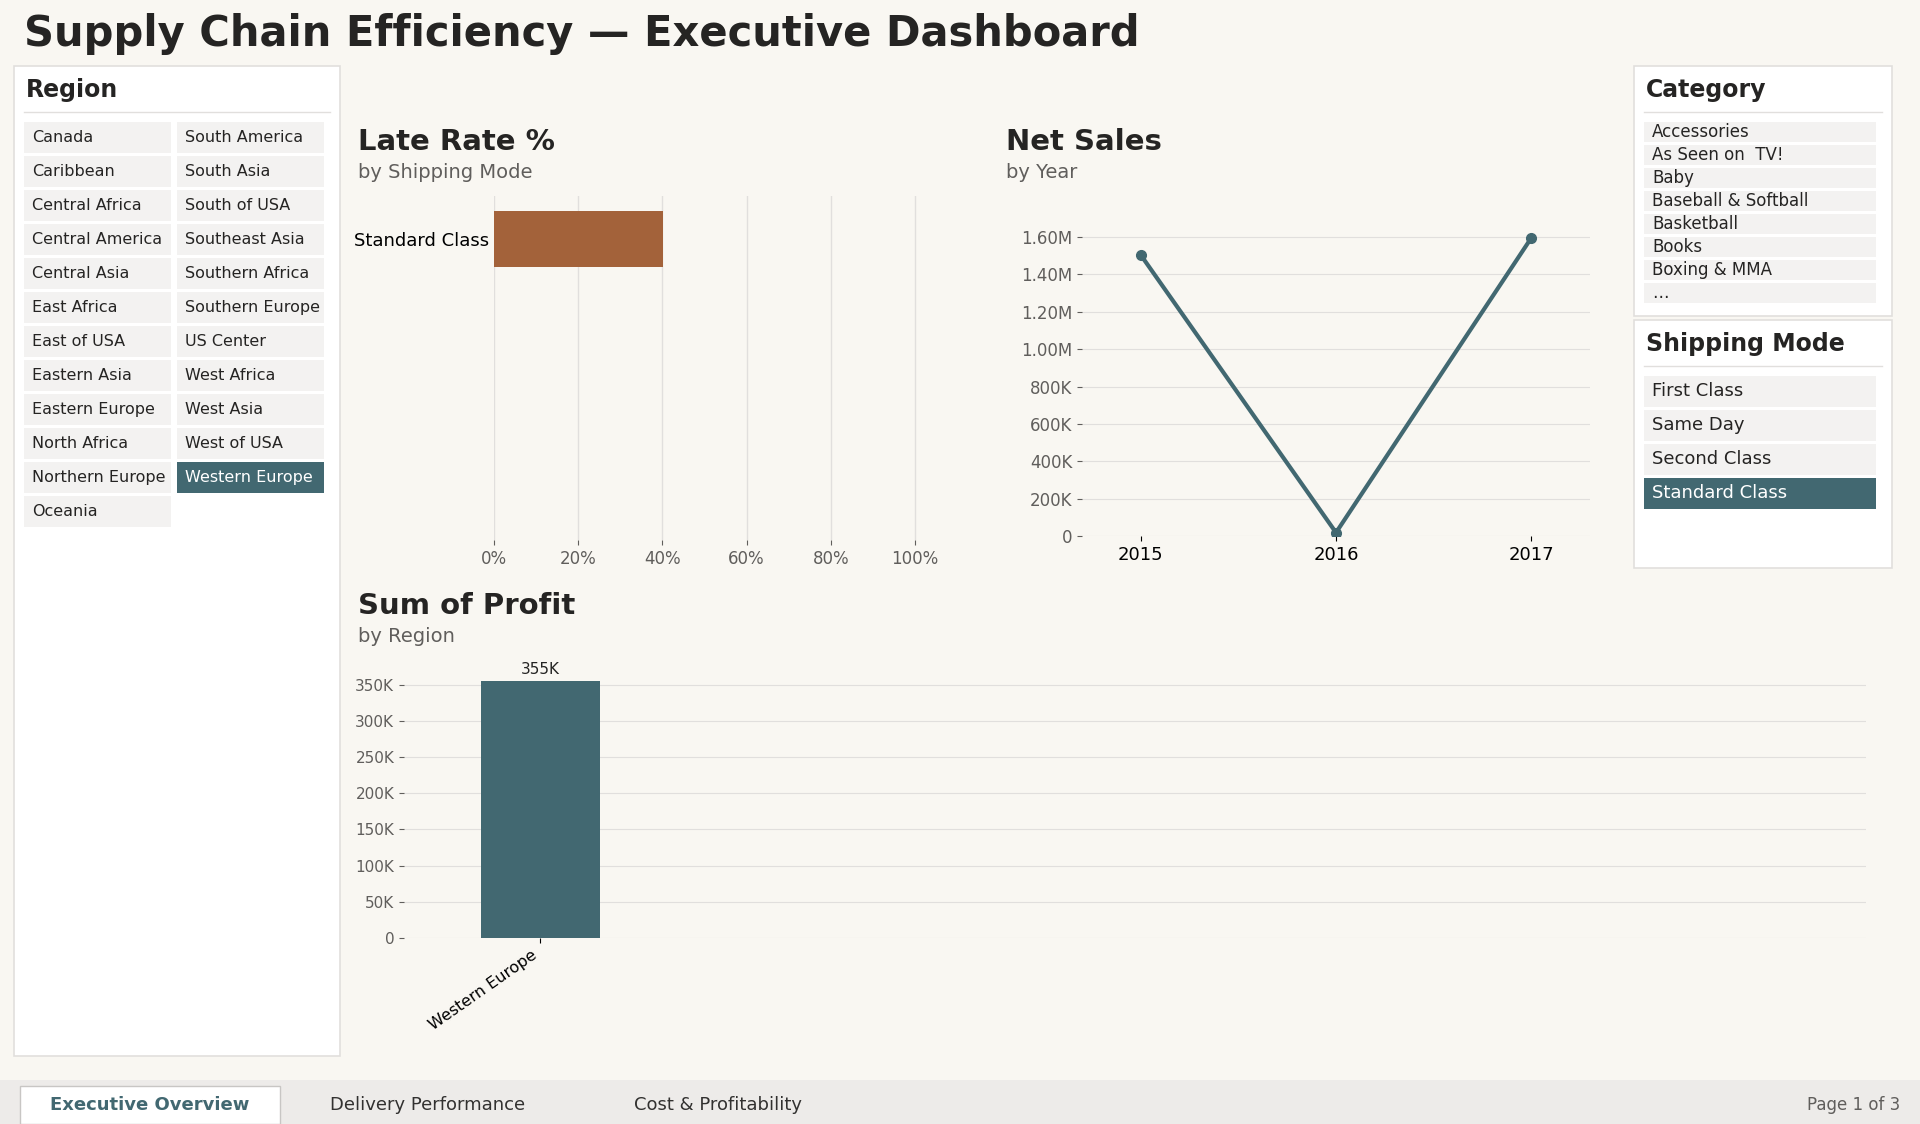

The dashboard page shown, as its layout file describes it:
{"tool":"powerbi","page":{"name":"Executive Overview","canvas":[1920,1080],"ordinal":0},"visuals":[{"type":"barChart","title":"Late Rate %","fields":{"Category":["Fact_OrderItems.Shipping_Mode"],"Y":["Fact_OrderItems.Late Rate %"]},"box":[344,116,632,454],"z":4000},{"type":"lineChart","title":"Net Sales","fields":{"Category":["Fact_OrderItems.Order_Year_Month.Variation.Date Hierarchy.Year","Fact_OrderItems.Order_Year_Month.Variation.Date Hierarchy.Quarter","Fact_OrderItems.Order_Year_Month.Variation.Date Hierarchy.Month","Fact_OrderItems.Order_Year_Month.Variation.Date Hierarchy.Day"],"Y":["Sum(Fact_OrderItems.Net_Sales)"]},"box":[992,116,638,454],"z":5000},{"type":"columnChart","fields":{"Category":["Fact_OrderItems.Region"],"Y":["Sum(Fact_OrderItems.Profit)"]},"box":[344,580,1552,478],"z":6000},{"type":"advancedSlicerVisual","fields":{"Values":["Fact_OrderItems.Region"]},"box":[10,64,334,994],"z":7000},{"type":"advancedSlicerVisual","fields":{"Values":["Fact_OrderItems.Category"]},"box":[1630,64,266,254],"z":8000},{"type":"advancedSlicerVisual","title":"Shipping Mode","fields":{"Values":["Fact_OrderItems.Shipping_Mode"]},"box":[1630,318,266,252],"z":9000},{"type":"textbox","box":[10,0,1262,64],"z":10000}]}

Visuals, with their boxes on the page's 1920x1080 design canvas (x1, y1, x2, y2). These are canvas units, not pixel positions in the 1920x1124 screenshot, which may show the page scaled, cropped or inside an application window:
"Late Rate %" barChart: <bbox>344, 116, 976, 570</bbox>
"Net Sales" lineChart: <bbox>992, 116, 1630, 570</bbox>
columnChart - Fact_OrderItems.Region x Sum(Fact_OrderItems.Profit): <bbox>344, 580, 1896, 1058</bbox>
advancedSlicerVisual - Fact_OrderItems.Region: <bbox>10, 64, 344, 1058</bbox>
advancedSlicerVisual - Fact_OrderItems.Category: <bbox>1630, 64, 1896, 318</bbox>
"Shipping Mode" advancedSlicerVisual: <bbox>1630, 318, 1896, 570</bbox>
textbox: <bbox>10, 0, 1272, 64</bbox>
